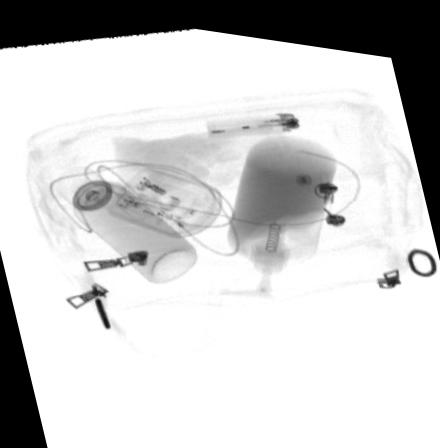Lighter: (204, 103, 299, 136)
Sprayer: (53, 161, 198, 279)
